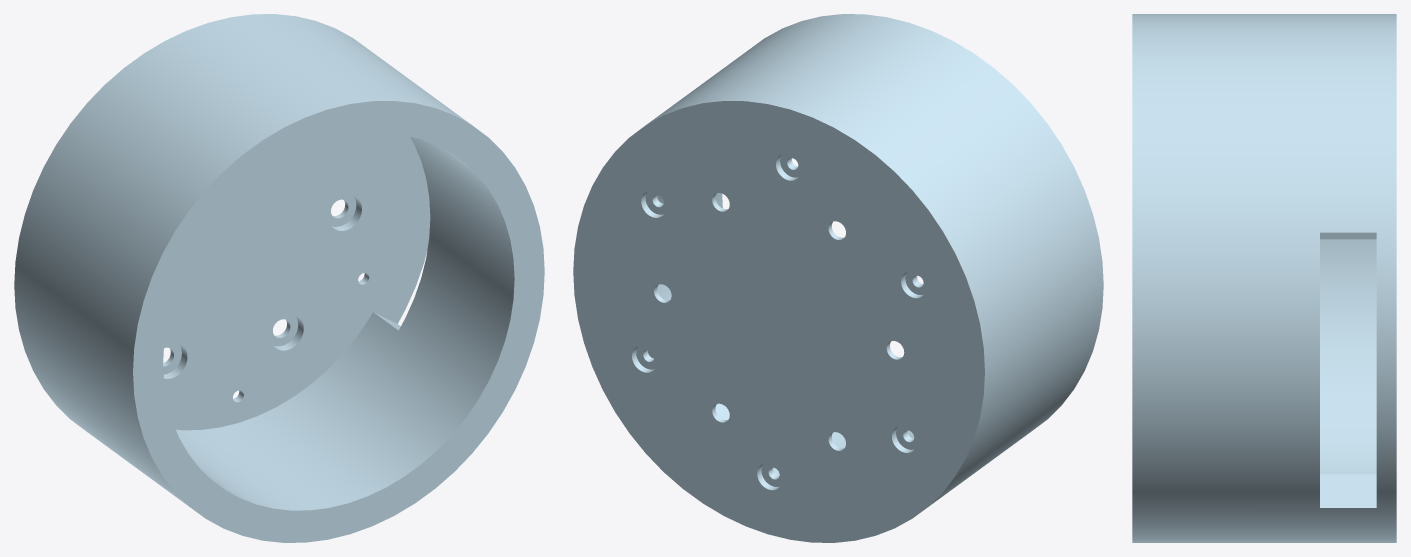
3 views of the same model, side by side, from view 1: azimuth 30°, elevation 25°; view 2: azimuth 150°, elevation 25°; view 3: azimuth 270°, elevation 25° (orthographic). The views are drawn at different scales.
Parts seen in each view (by area): view 1: mesh552, mesh548, mesh553, mesh554; view 2: mesh514, mesh552, mesh553; view 3: mesh552, mesh553, mesh550, mesh549.
Part boxes in pixels (<box>): mesh552: <box>14,14,471,513</box>; mesh548: <box>164,133,430,430</box>; mesh553: <box>176,136,514,510</box>; mesh554: <box>133,101,544,542</box>; mesh514: <box>573,101,984,542</box>; mesh552: <box>646,14,1103,513</box>; mesh553: <box>657,193,914,475</box>; mesh552: <box>1132,14,1396,542</box>; mesh553: <box>1320,239,1376,474</box>; mesh550: <box>1320,474,1376,507</box>; mesh549: <box>1320,232,1376,239</box>.
Size of the model in its own units: 0.0931 by 0.093 by 0.0465.
